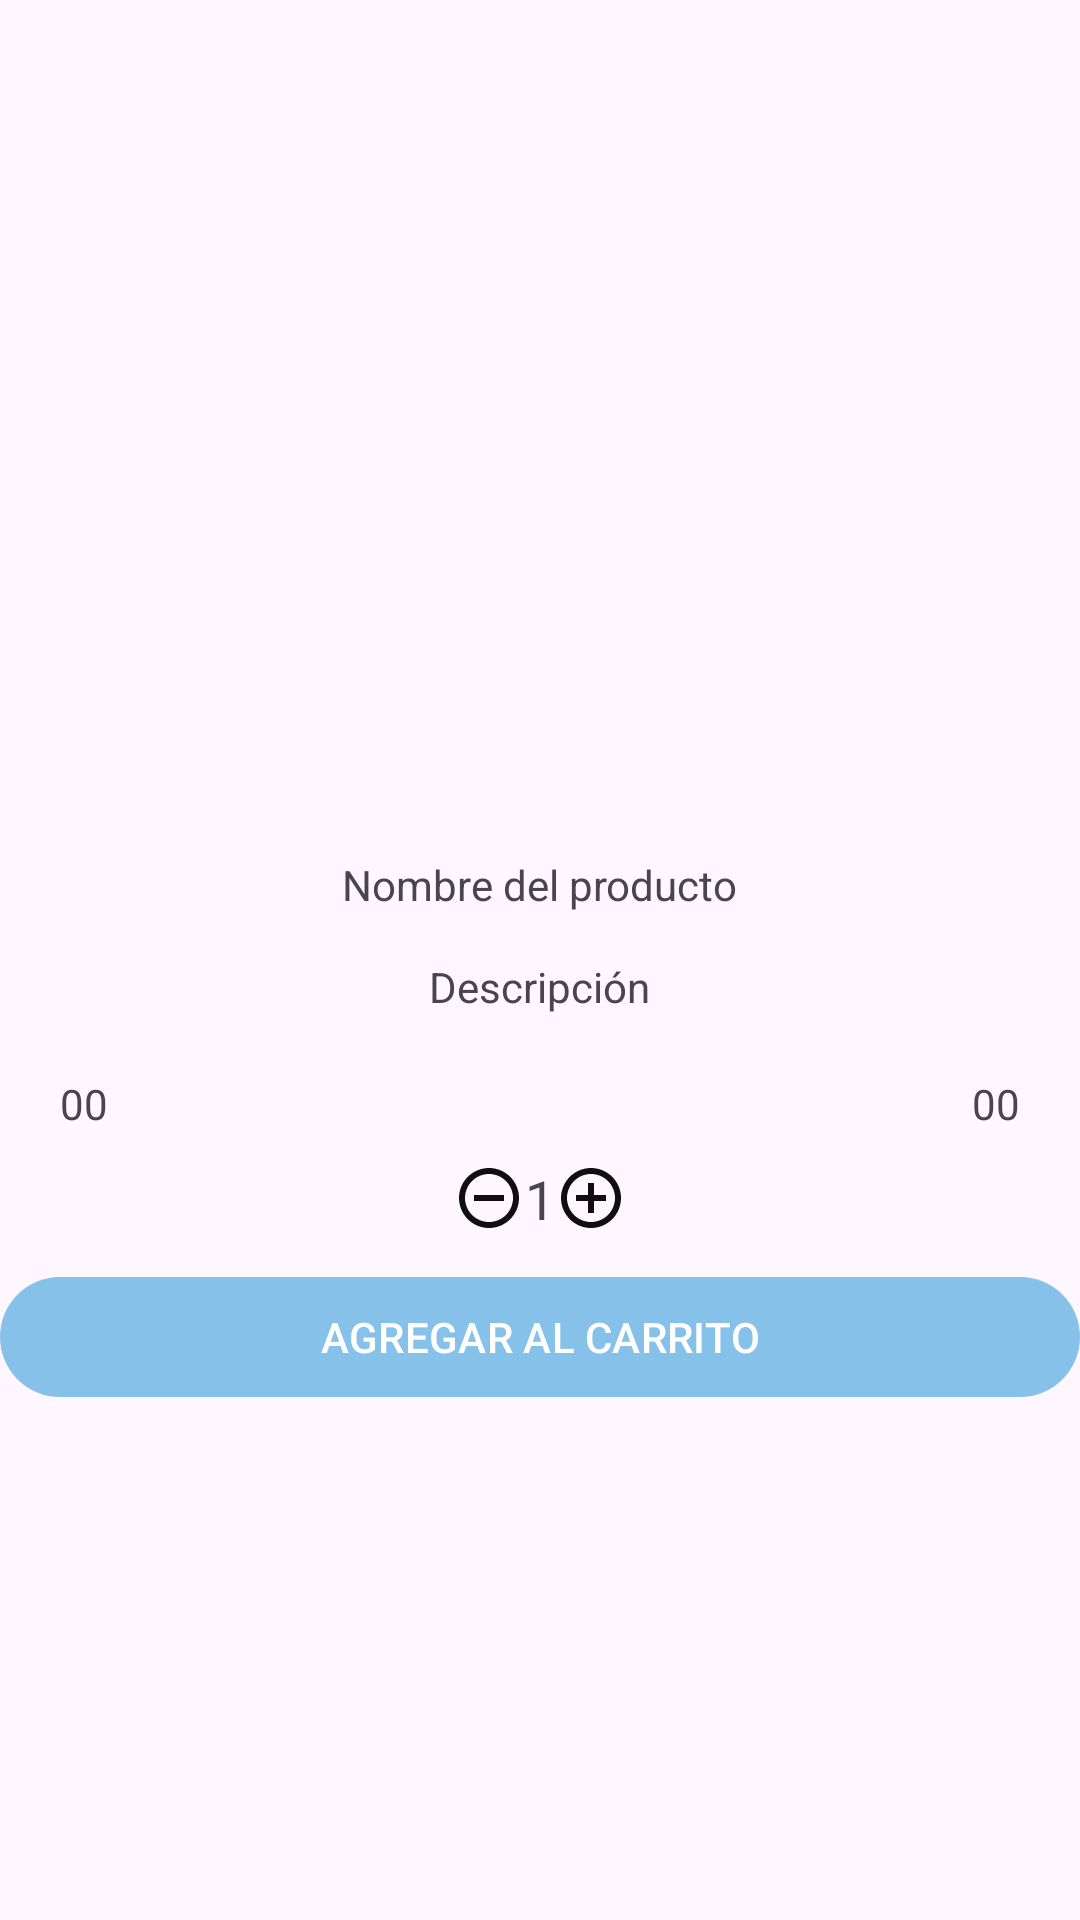

Point at icon controls on the screen. Image size 1080px×1920px, points as (x=x, y=y).
disminuir: (x=489, y=1198)
incrementar: (x=591, y=1198)
